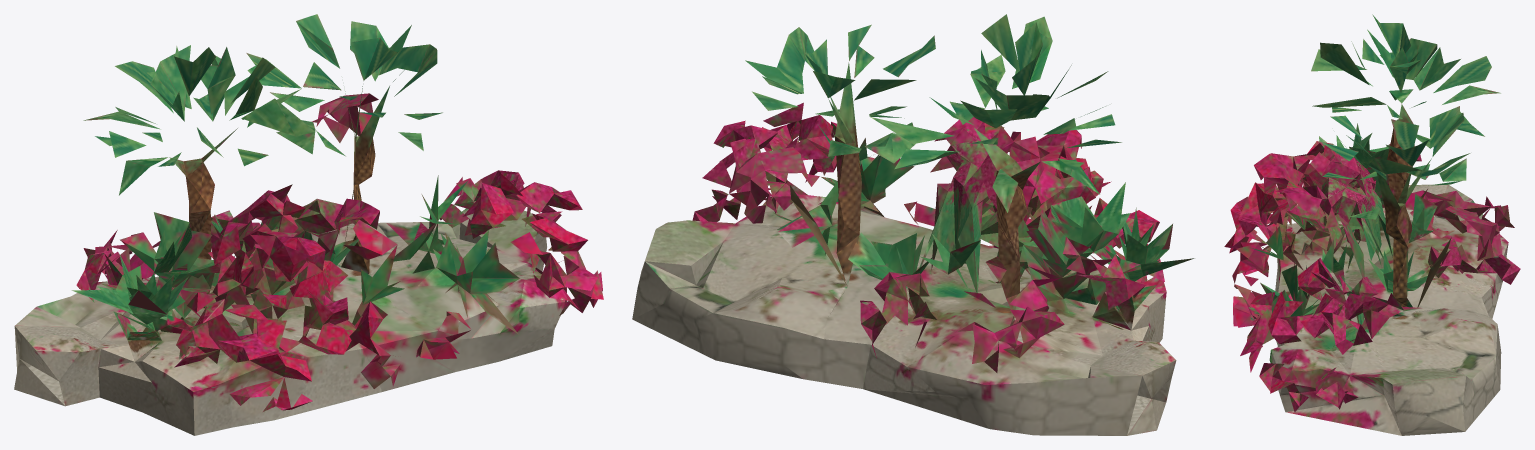
The model's file is bermuda-bougainvillea-cluster.glb.
3 views of the same model, side by side, from view 1: azimuth 30°, elevation 25°; view 2: azimuth 150°, elevation 25°; view 3: azimuth 270°, elevation 25° (orthographic). The views are drawn at different scales.
Visible parts, largest first — view 1: output_unwrapped; view 2: output_unwrapped; view 3: output_unwrapped.
Boxes of the visible parts, x1=… form: output_unwrapped: x1=14, y1=14, x2=603, y2=435; output_unwrapped: x1=632, y1=14, x2=1194, y2=435; output_unwrapped: x1=1224, y1=14, x2=1520, y2=435.
Bounding box in the file's own units: 1.8 × 1.12 × 1.07.
Materials: 1 (1 with a texture image).
